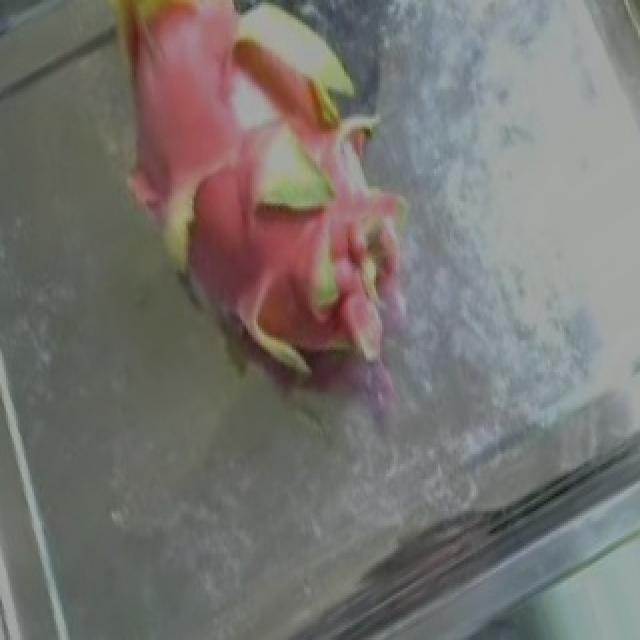fruit: (18, 0, 458, 417)
